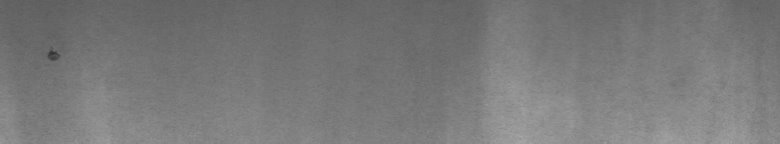fi: (45, 42, 63, 68)
